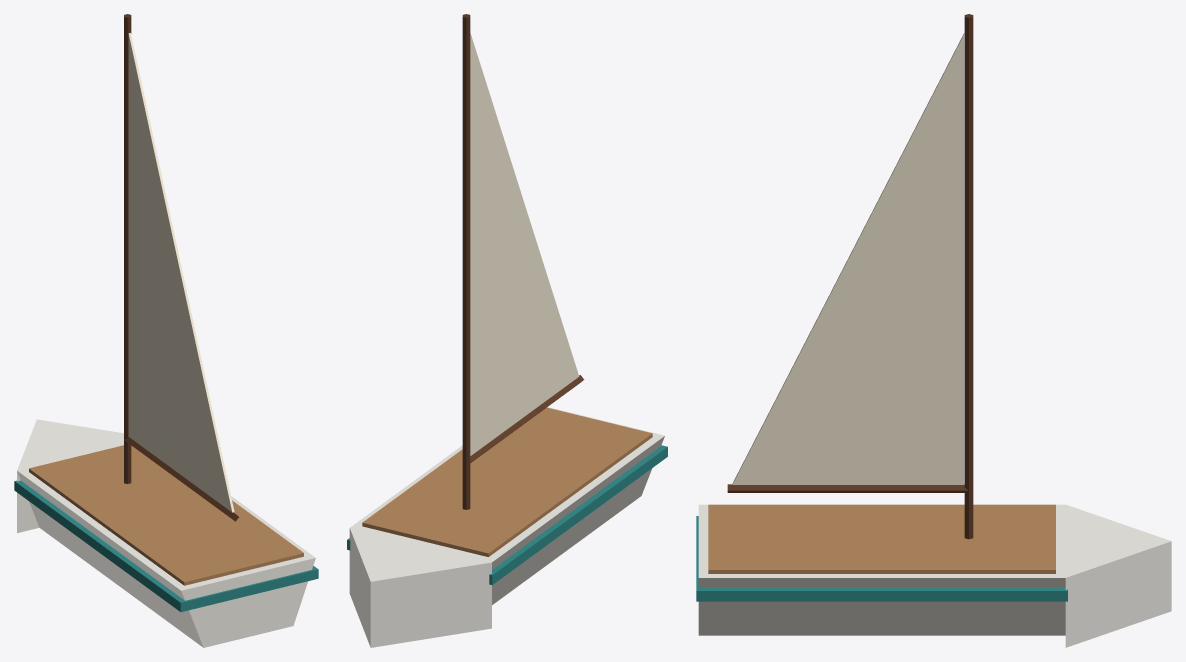
The model's file is sailboat.glb.
3 renders of one model, left to right at view 1: azimuth 30°, elevation 25°; view 2: azimuth 150°, elevation 25°; view 3: azimuth 270°, elevation 25°, orthographic. The views are drawn at different scales.
Parts seen in each view (by area): view 1: boat; view 2: boat; view 3: boat.
Part boxes in pixels (x1,y1,x2,y2): boat: [14, 14, 318, 647]; boat: [347, 14, 667, 647]; boat: [696, 14, 1171, 647].
Bounding box in the file's own units: 1.84 × 6.8 × 4.92.
